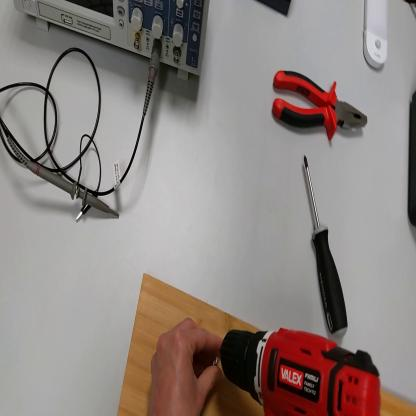hand: (148, 314, 225, 415)
oscilloscope: (15, 1, 211, 81)
oscilloscope probe tip: (8, 140, 120, 223)
pliers: (272, 67, 370, 148)
screwdriver-: (304, 154, 349, 342)
welder station: (408, 90, 416, 228)
working area: (118, 272, 416, 416)
